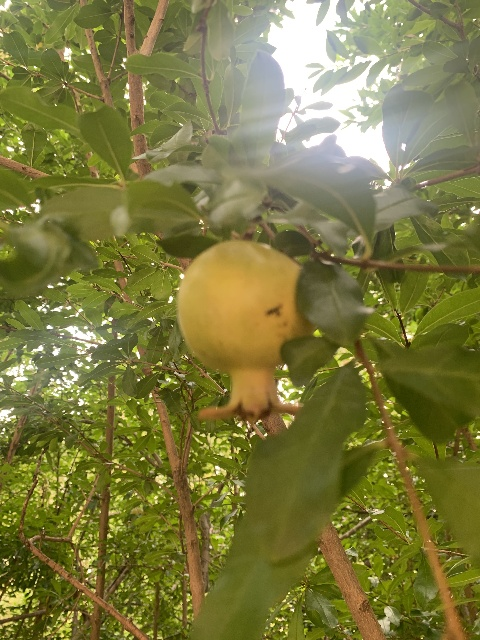early-fruit: (176, 240, 317, 418)
